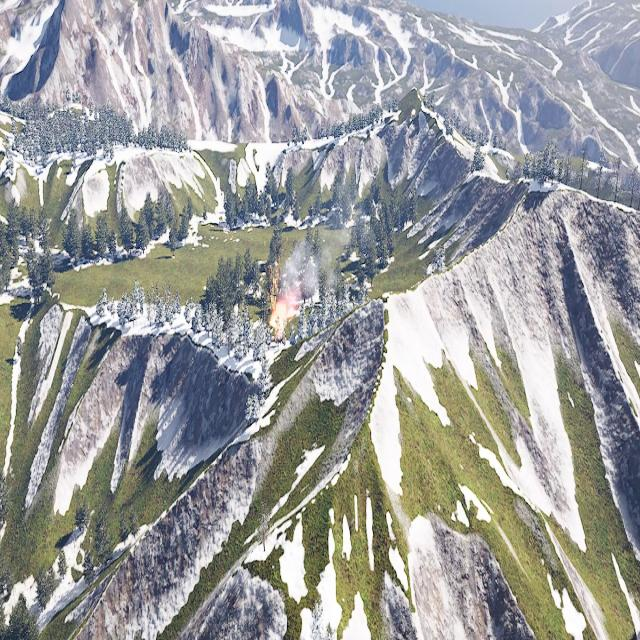fire: (271, 298, 293, 332)
smoke: (280, 192, 362, 302)
